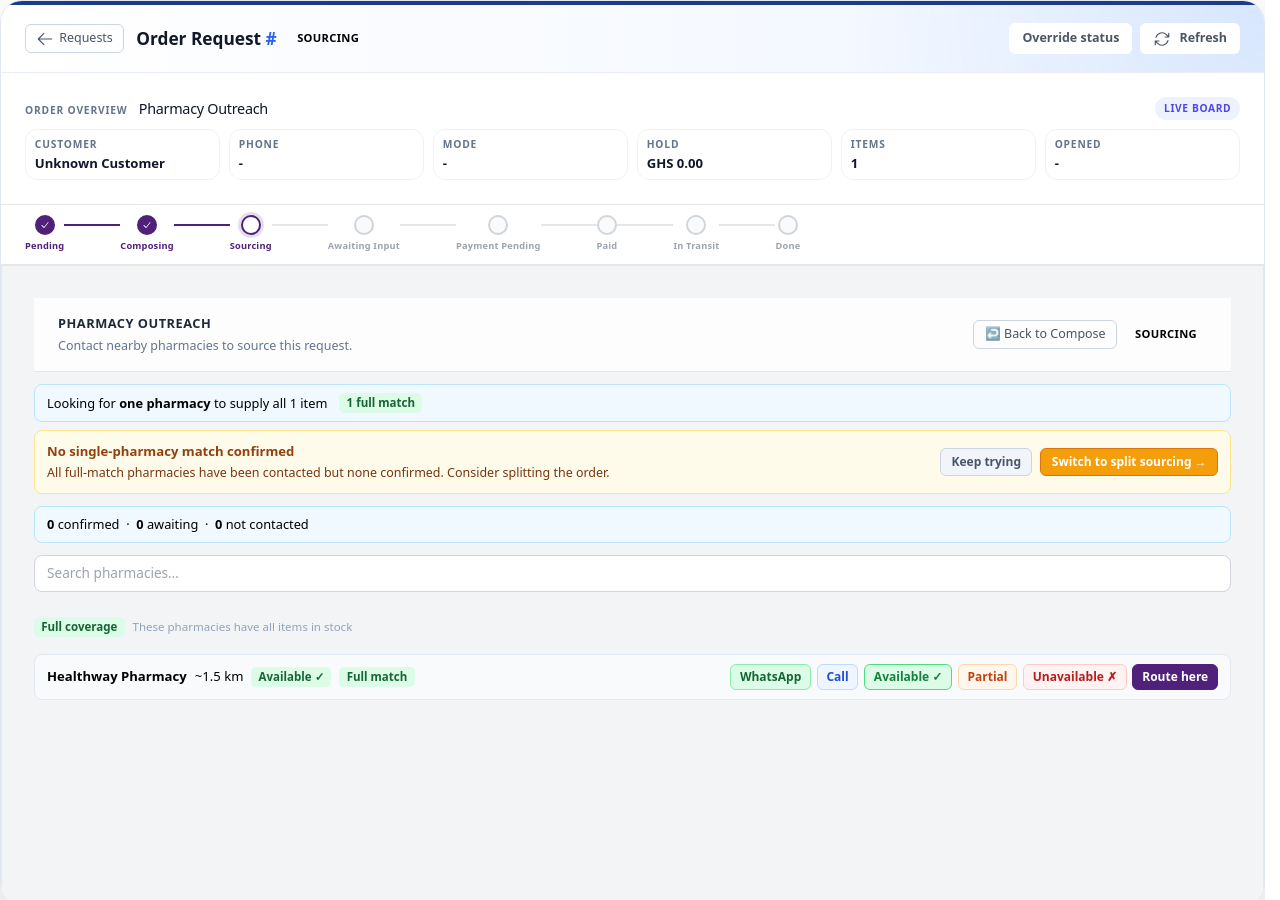
Test: order requests: routing items to a pharmacy, the details › says the routing worked but the page needs a refresh, when only the refresh fails
The width and height of the screenshot is (1280, 900).
Click the button "Route here".
click(1175, 677)  # box [1132, 664, 1218, 690]
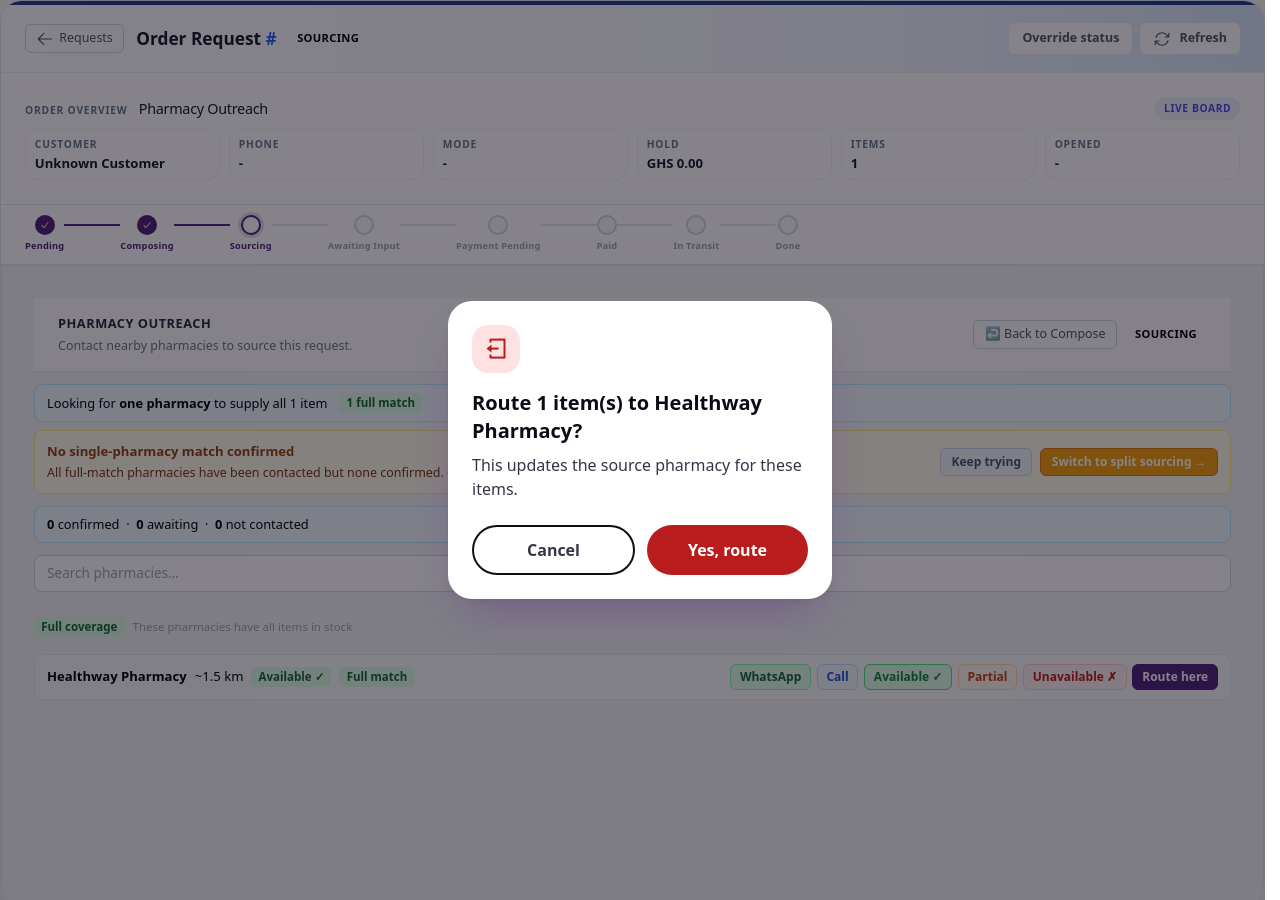
Click the button "Yes, route".
click(728, 550)  # box [647, 525, 808, 575]
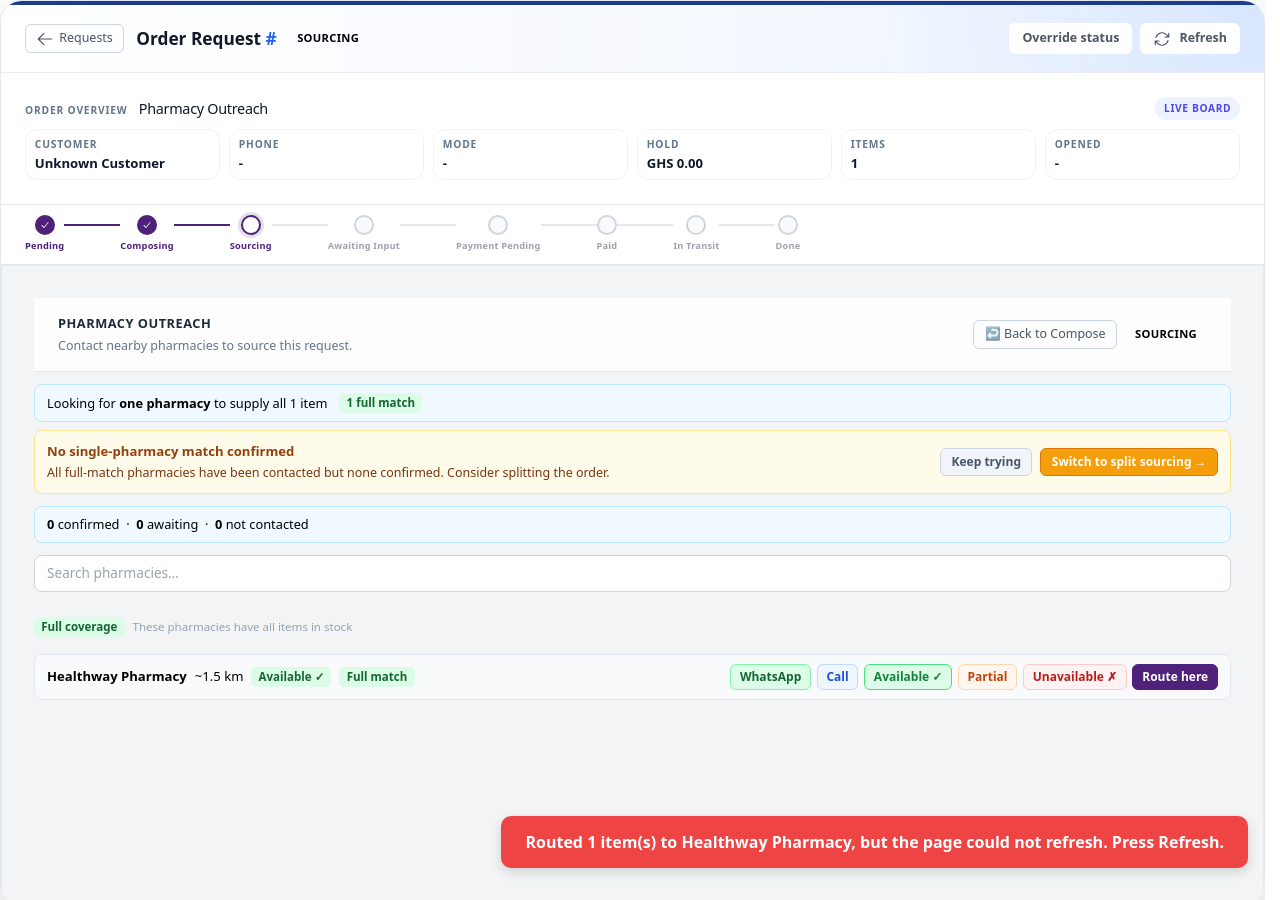
Result: the text "Routed 1 item(s) to Healthway Pharmacy, but the page could not refresh. Press Refresh." is shown at [526, 831, 1224, 853]
